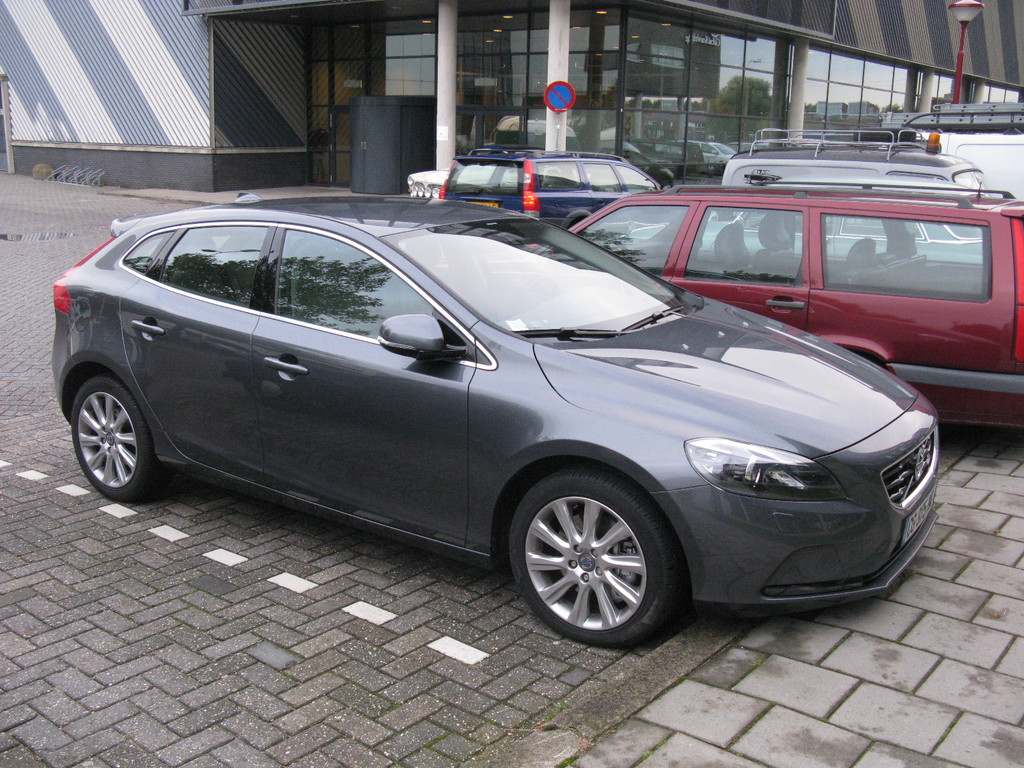Car: (44, 181, 948, 670), (529, 181, 1022, 430), (700, 128, 982, 261), (437, 148, 670, 250), (466, 146, 544, 173), (405, 167, 446, 198), (743, 167, 782, 186)
